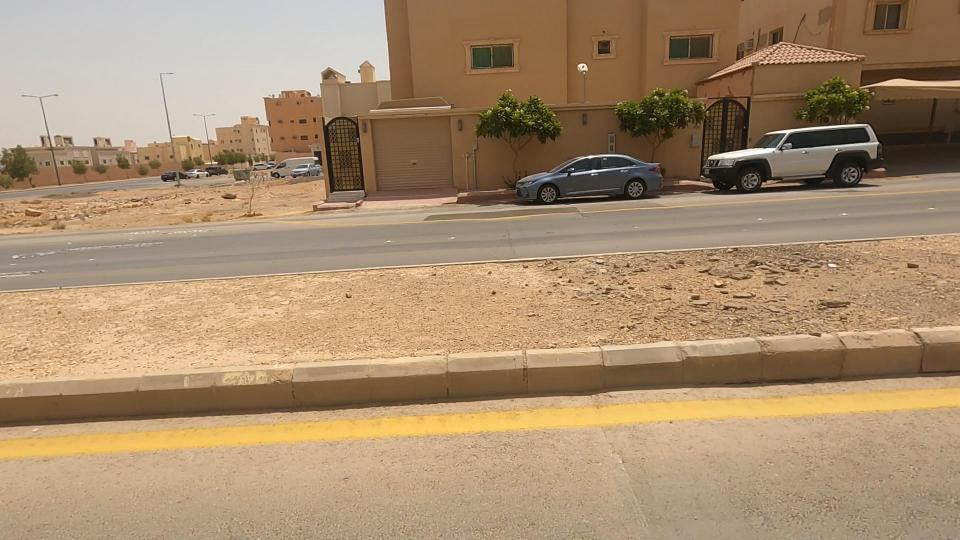CLUTTER_SIDEWALK: (258, 200, 960, 385), (0, 237, 538, 397)
